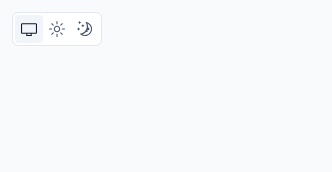
Test: ThemeSwitcher › switches to light and stores the choice
The image size is (332, 172).
Click the button named "Light theme" at (57, 29), box [43, 15, 71, 43]
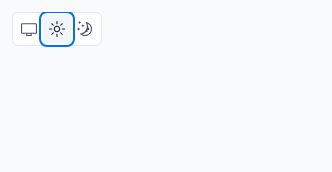
expect the button named "Light theme" is pressed: met, box [43, 15, 71, 43]
